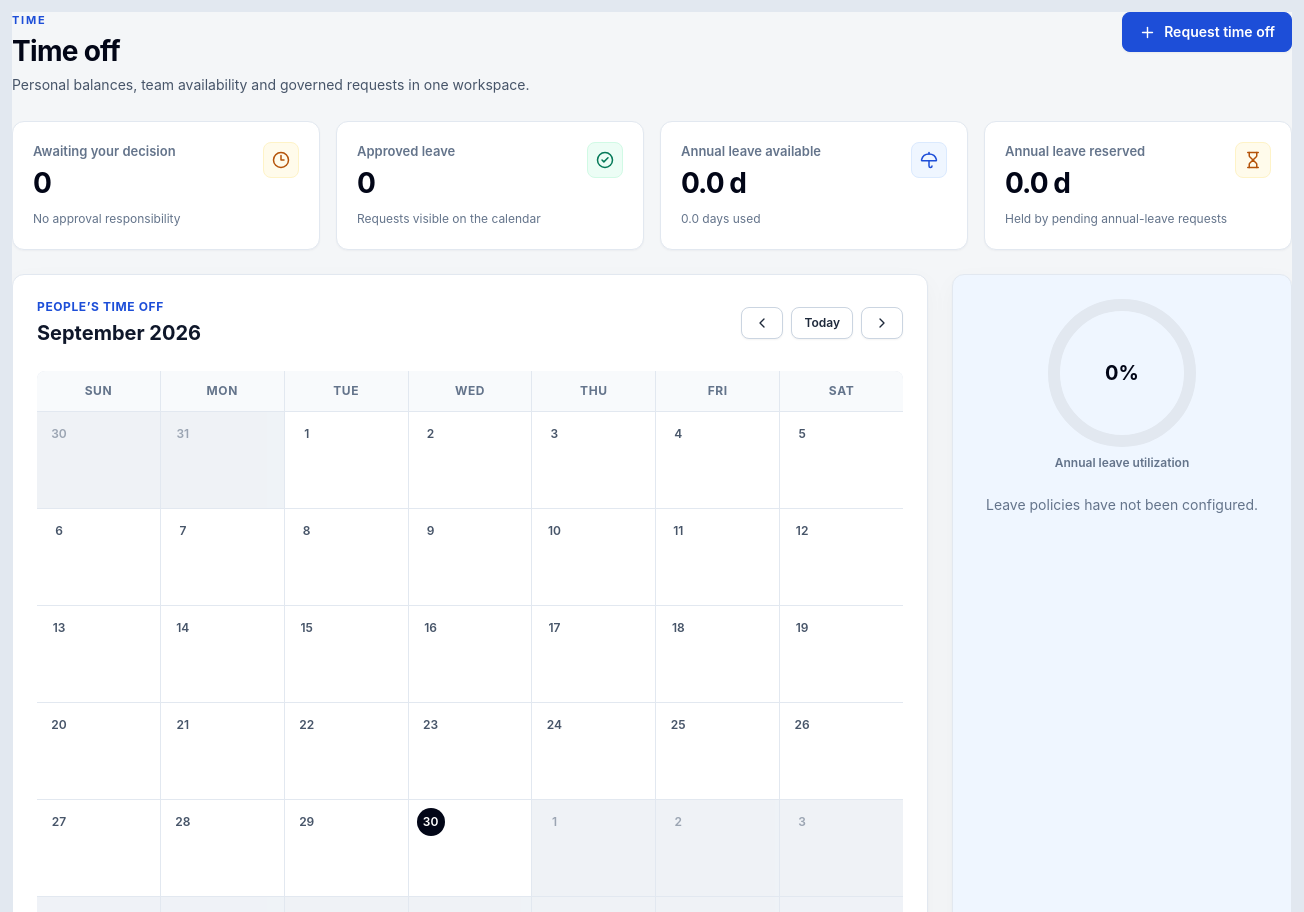
Scenario: employee does not see administrative leave setup guidance
The image size is (1304, 912).
Click the button "Request time off".
click(1207, 32)  # box 1122,12 -> 1292,52
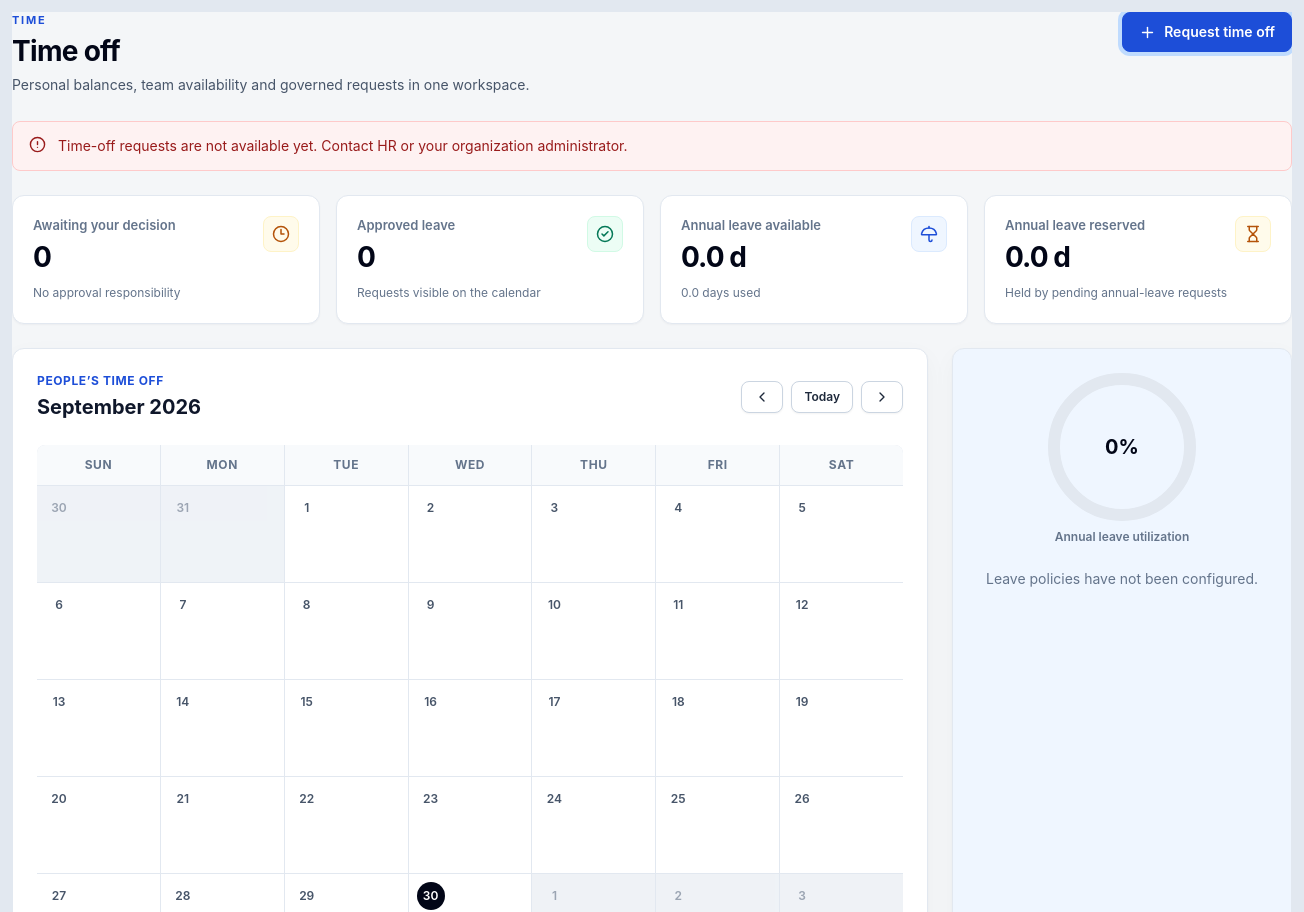
Check: the text "Time-off requests are not available yet." shows "Contact HR or your organization administrator.", box 58,136 -> 628,154
